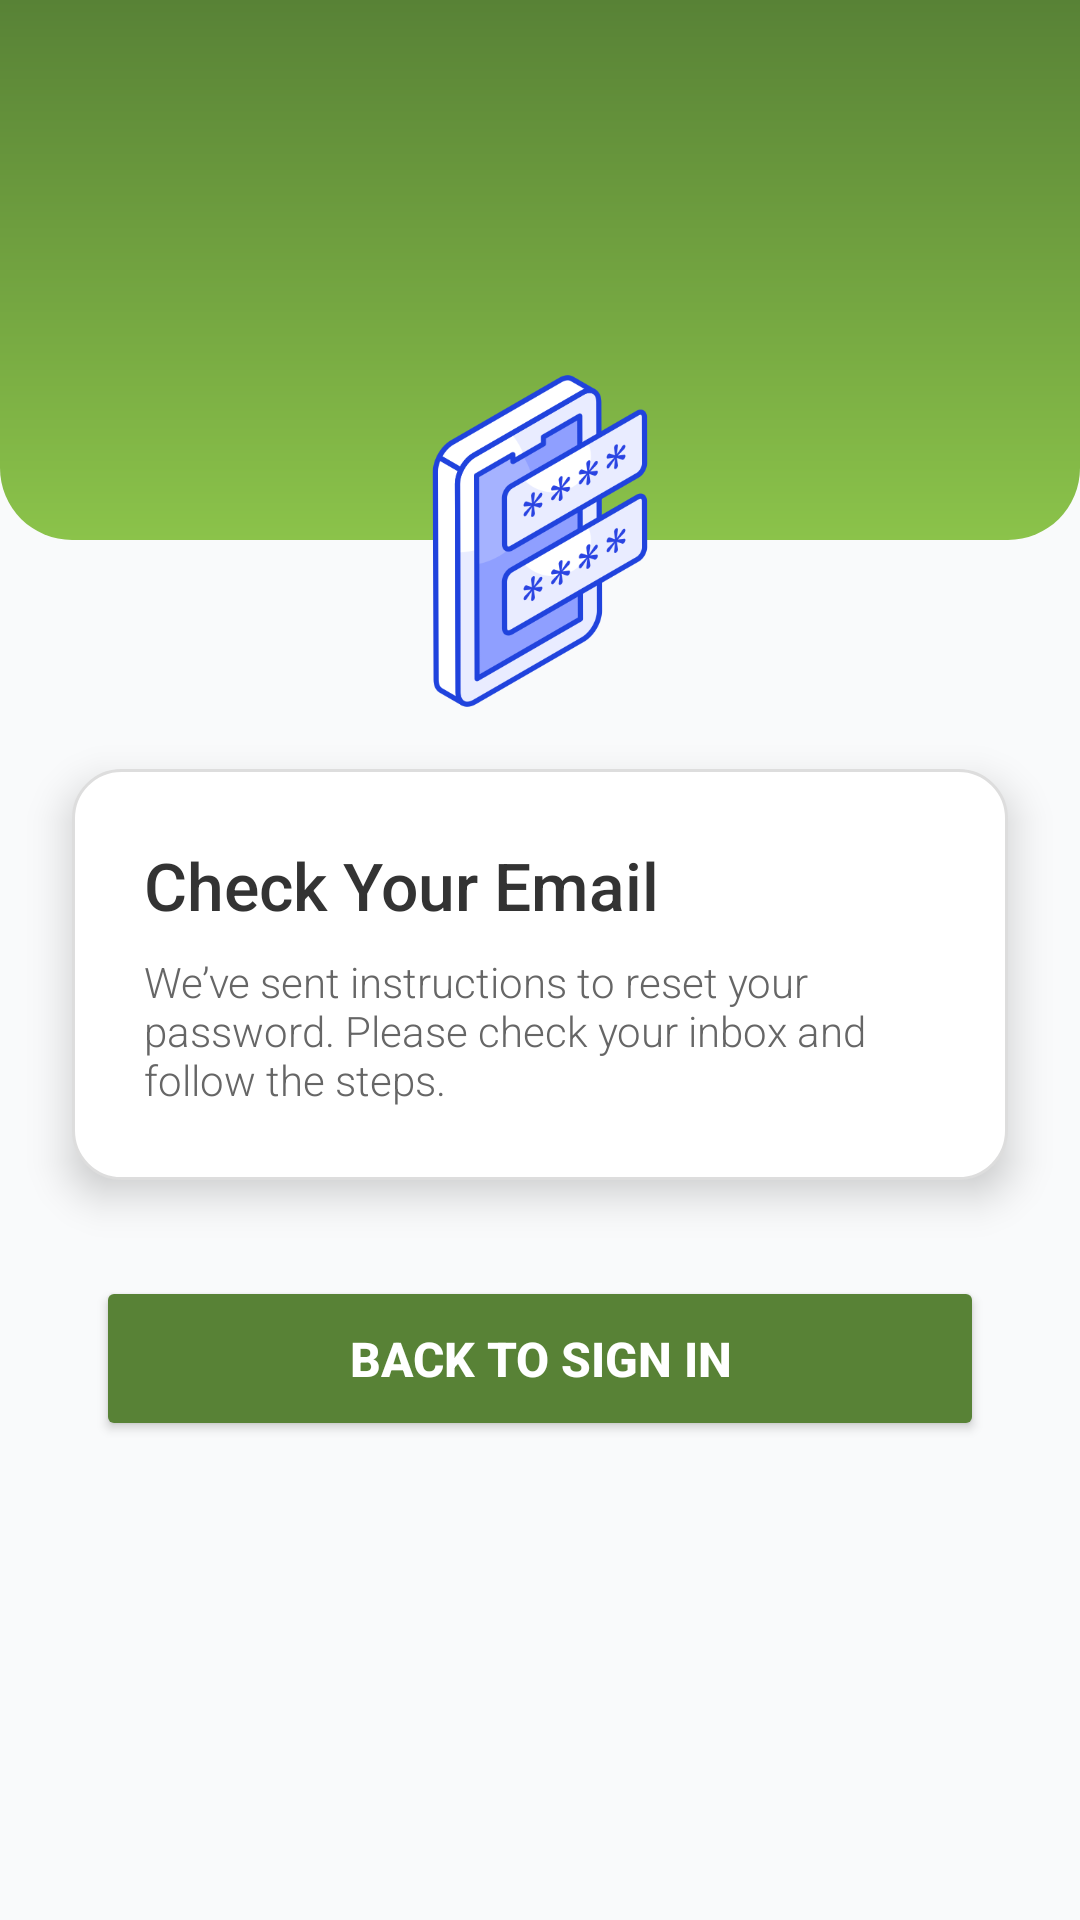

Icon click points for this 1080px×1920px phone screenshot, format (x,y):
Confirmation Illustration: (540,541)
